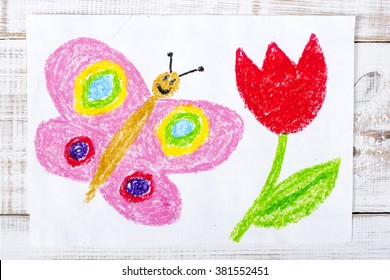flower: (230, 32, 341, 240)
